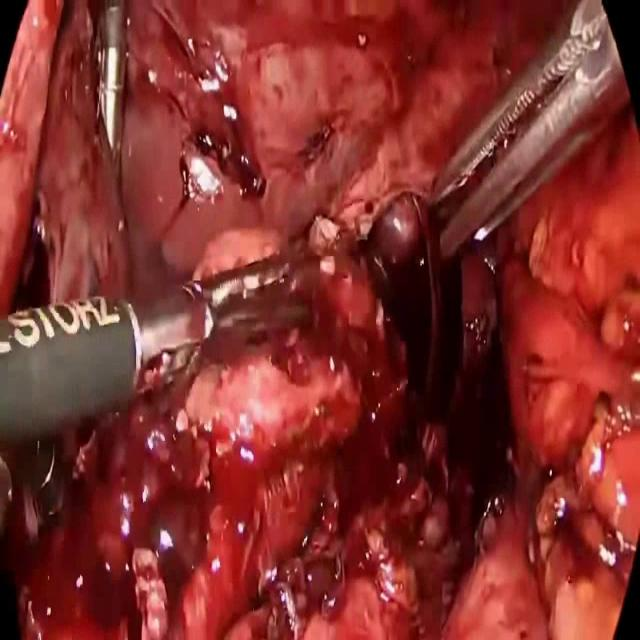surgical-area: (0, 0, 640, 639)
surgical-tool: (0, 254, 309, 443), (430, 0, 630, 260), (97, 0, 126, 178)
